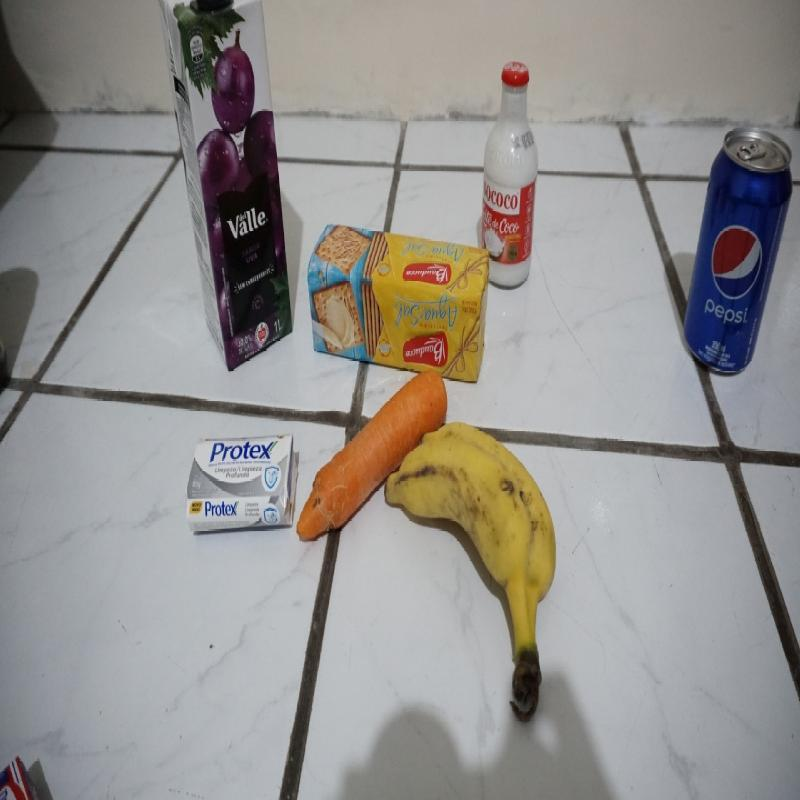Banana: (386, 423, 556, 703)
Carrot: (299, 367, 447, 544)
Coconut Milk: (484, 64, 538, 290)
Cracker: (306, 223, 492, 385)
Soap: (187, 433, 295, 531)
Soda can: (686, 127, 793, 376)
